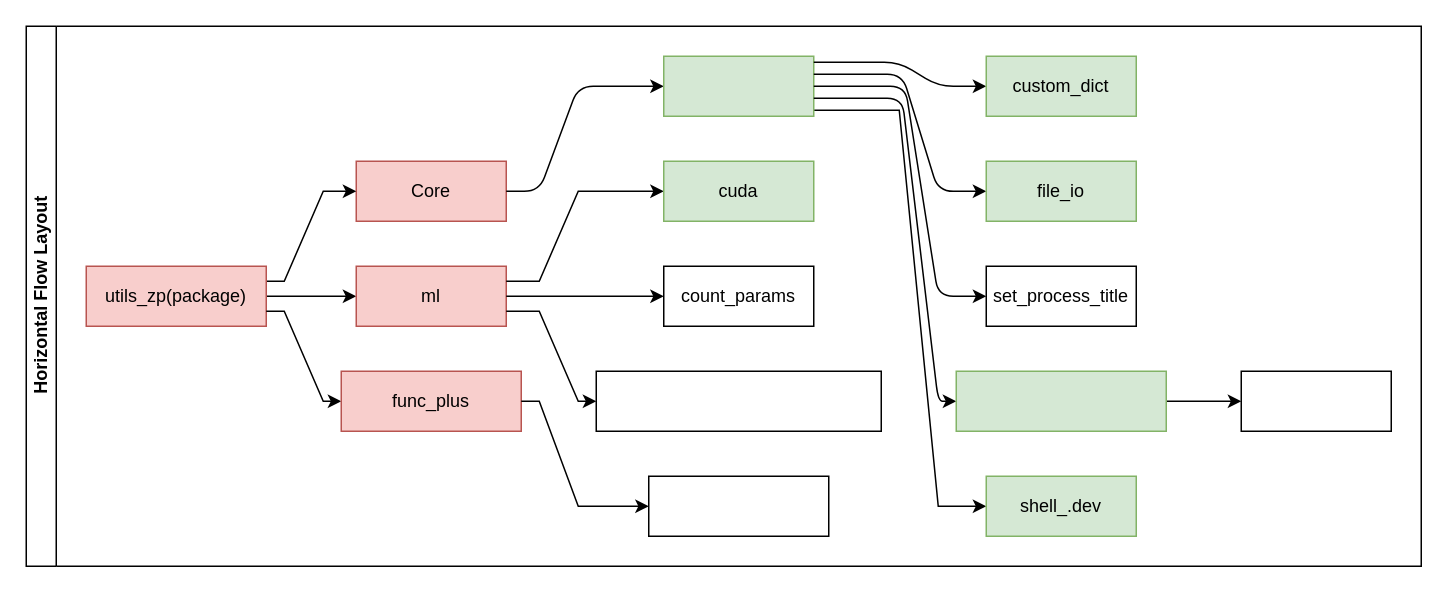
The diagram is 1448 pixels wide and 593 high, and some of its shapes have lost their labels. The shapes that lost their labels are listed below. From the top down, each one's centre as x and y in pixels, then its label:
At pixel 738 85: "base_utils".
At pixel 738 400: "postprocess_generation_res".
At pixel 1060 400: "context_manager_with".
At pixel 1315 400: "base_decorator".
At pixel 738 505: "plt".
